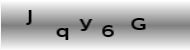6: (100, 24, 114, 39)
G: (129, 17, 146, 31)
J: (24, 8, 32, 27)
q: (54, 26, 68, 41)
y: (77, 17, 93, 32)
